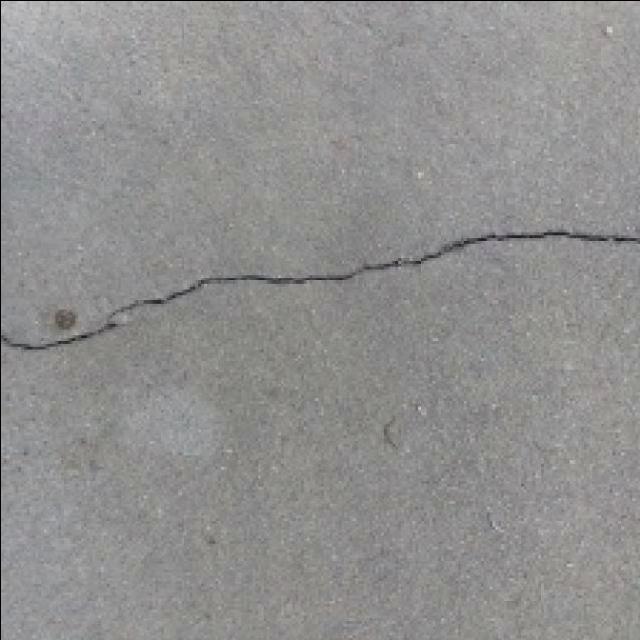SurfaceCrack: (6, 170, 640, 374)
